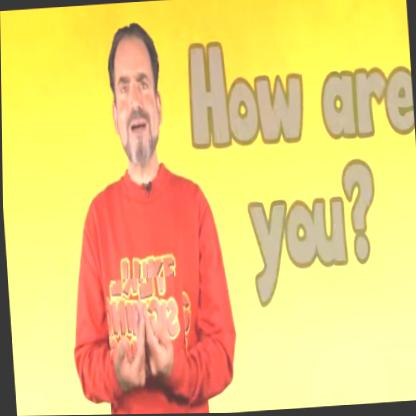HowAreYou: (104, 275, 189, 415)
